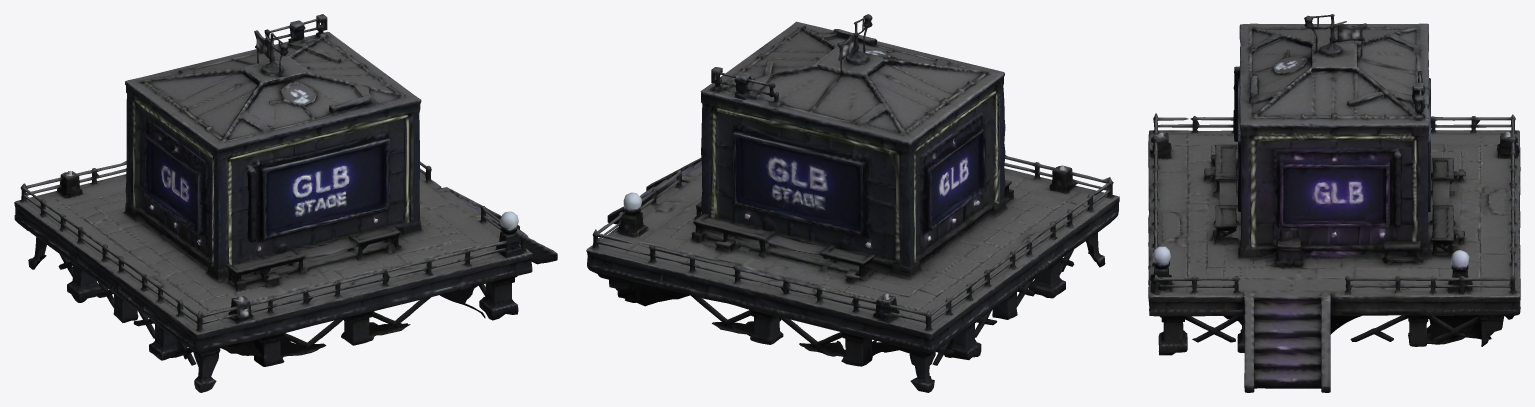
File: STUDIORIDGE_OUT.glb
3 renders of one model, left to right at view 1: azimuth 30°, elevation 25°; view 2: azimuth 150°, elevation 25°; view 3: azimuth 270°, elevation 25°, orthographic. The views are drawn at different scales.
Parts seen in each view (by area): view 1: tripo_node_a281a4b6-ba11-4cb0-83e3-0259c0a8eb4f; view 2: tripo_node_a281a4b6-ba11-4cb0-83e3-0259c0a8eb4f; view 3: tripo_node_a281a4b6-ba11-4cb0-83e3-0259c0a8eb4f.
Boxes of the visible parts, x1,y1,x2,y2 form: tripo_node_a281a4b6-ba11-4cb0-83e3-0259c0a8eb4f: (14, 14, 557, 392); tripo_node_a281a4b6-ba11-4cb0-83e3-0259c0a8eb4f: (586, 14, 1119, 392); tripo_node_a281a4b6-ba11-4cb0-83e3-0259c0a8eb4f: (1148, 14, 1520, 392).
Bounding box in the file's own units: 1 × 0.6066 × 0.7772.
1 material, 1 textured.
